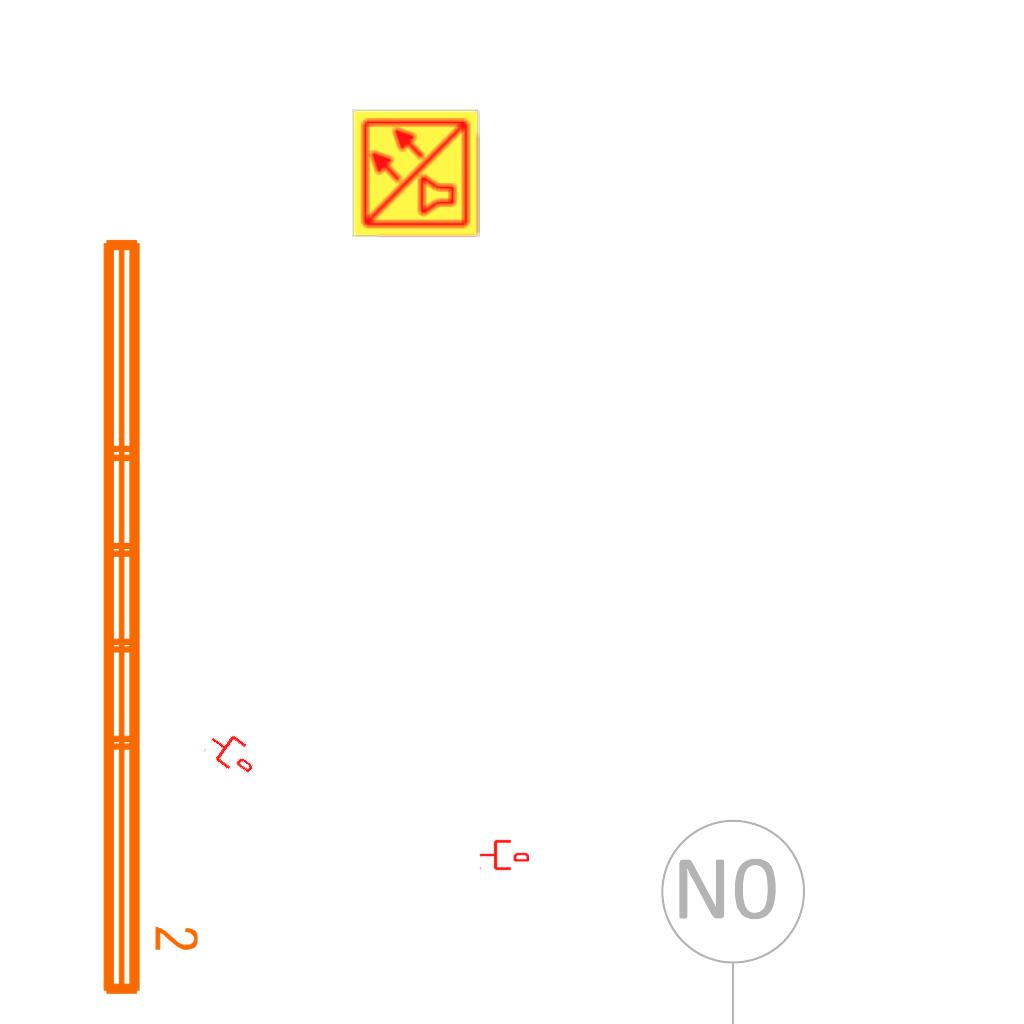Ambulanz_Pendelleuchte_LED: (91, 229, 203, 1003)
Datenanschluss_einfach: (201, 724, 263, 782), (479, 838, 529, 872)
OKW_Multisensormelder_(Kombination_optischer_Rauch-Kahlenmonoxid_Waerme-Melder): (350, 107, 482, 239)
